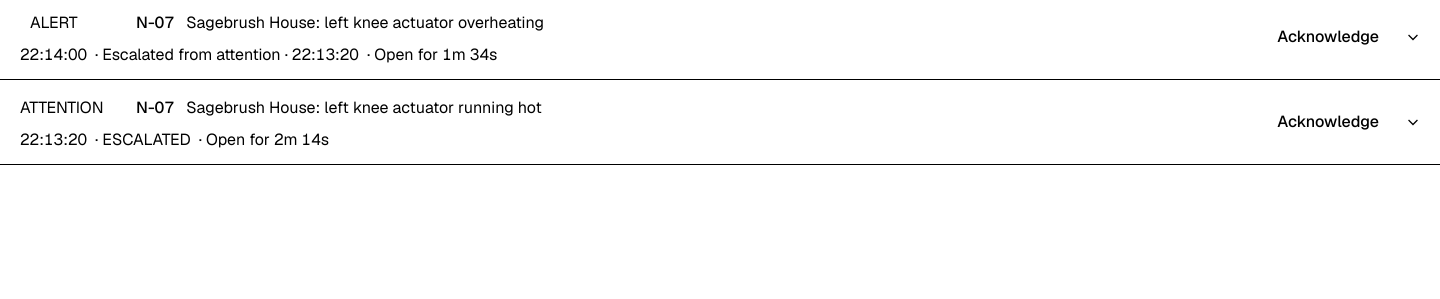
Test: AlertRail — related events › opens this unit's chronology, oldest first, on the row's own disclosure
Click the button named "Related events" in the row of "1m 34s": (1413, 37) top-left (1398, 21), bottom-right (1428, 53)
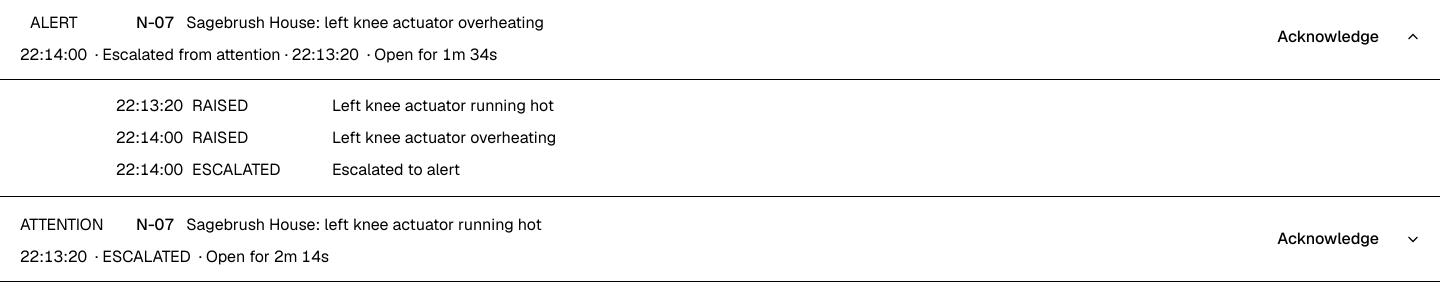
Check: the button named "Related events" in the row of "1m 34s" is expanded, box top-left (1398, 21), bottom-right (1428, 53)
Check: the list item "22:13:20 Raised Left knee actuator running hot" is shown, box top-left (116, 95), bottom-right (554, 116)
Check: the list item "22:14:00 Escalated Escalated to alert" is shown, box top-left (116, 159), bottom-right (460, 180)
